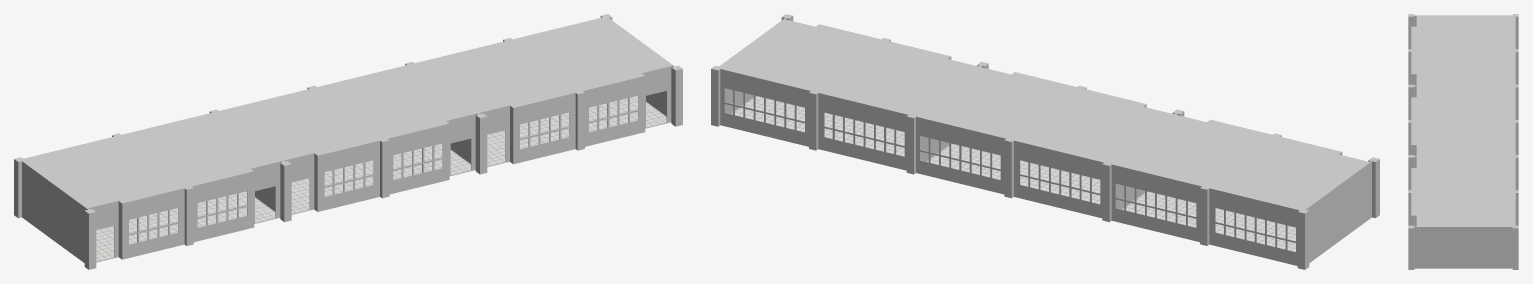
The model's file is Lab-transformed.glb.
The picture shows the model from 3 angles, left to right: view 1: azimuth 30°, elevation 25°; view 2: azimuth 150°, elevation 25°; view 3: azimuth 270°, elevation 25°; orthographic projection. The views are drawn at different scales.
Parts seen in each view (by area): view 1: lab-lt1-left; view 2: lab-lt1-left; view 3: lab-lt1-left.
Part boxes in pixels (x1,y1,x2,y2): lab-lt1-left: (14, 14, 682, 269); lab-lt1-left: (711, 14, 1379, 269); lab-lt1-left: (1408, 14, 1518, 269).
Size of the model in its own units: 14.58 by 1.32 by 3.18.
2 materials, 1 textured.
